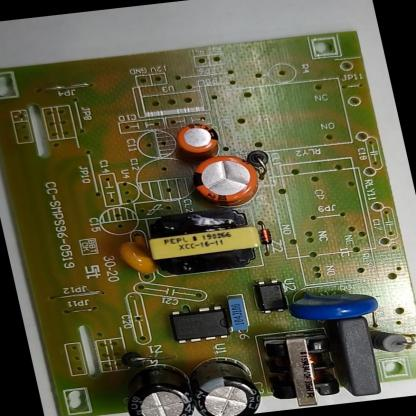Cap1: (177, 150, 269, 213)
Cap2: (167, 118, 228, 163)
Cap3: (180, 348, 270, 416)
Cap4: (111, 356, 206, 416)
MOSFET: (158, 299, 240, 349)
Mov: (280, 280, 384, 326)
Resistor: (366, 323, 416, 359)
Transformer: (134, 201, 270, 279), (255, 328, 348, 411)
